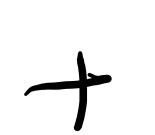plus: (24, 51, 112, 131)
